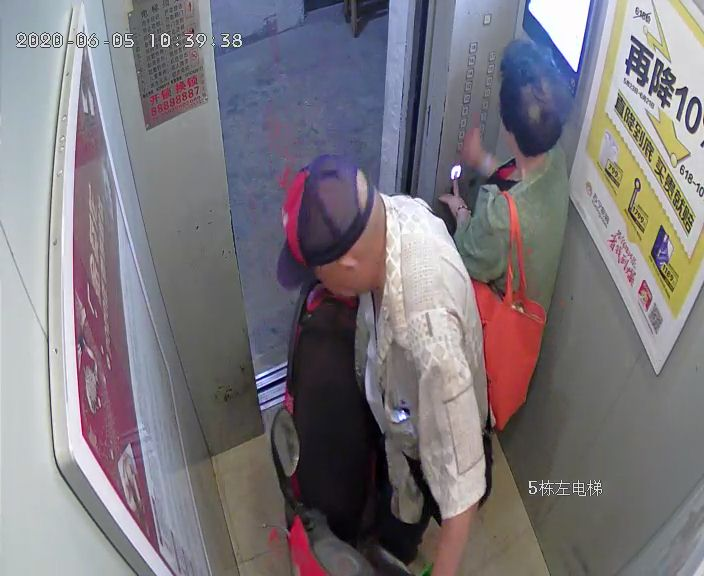Electric-bicycle: (264, 264, 417, 576)
